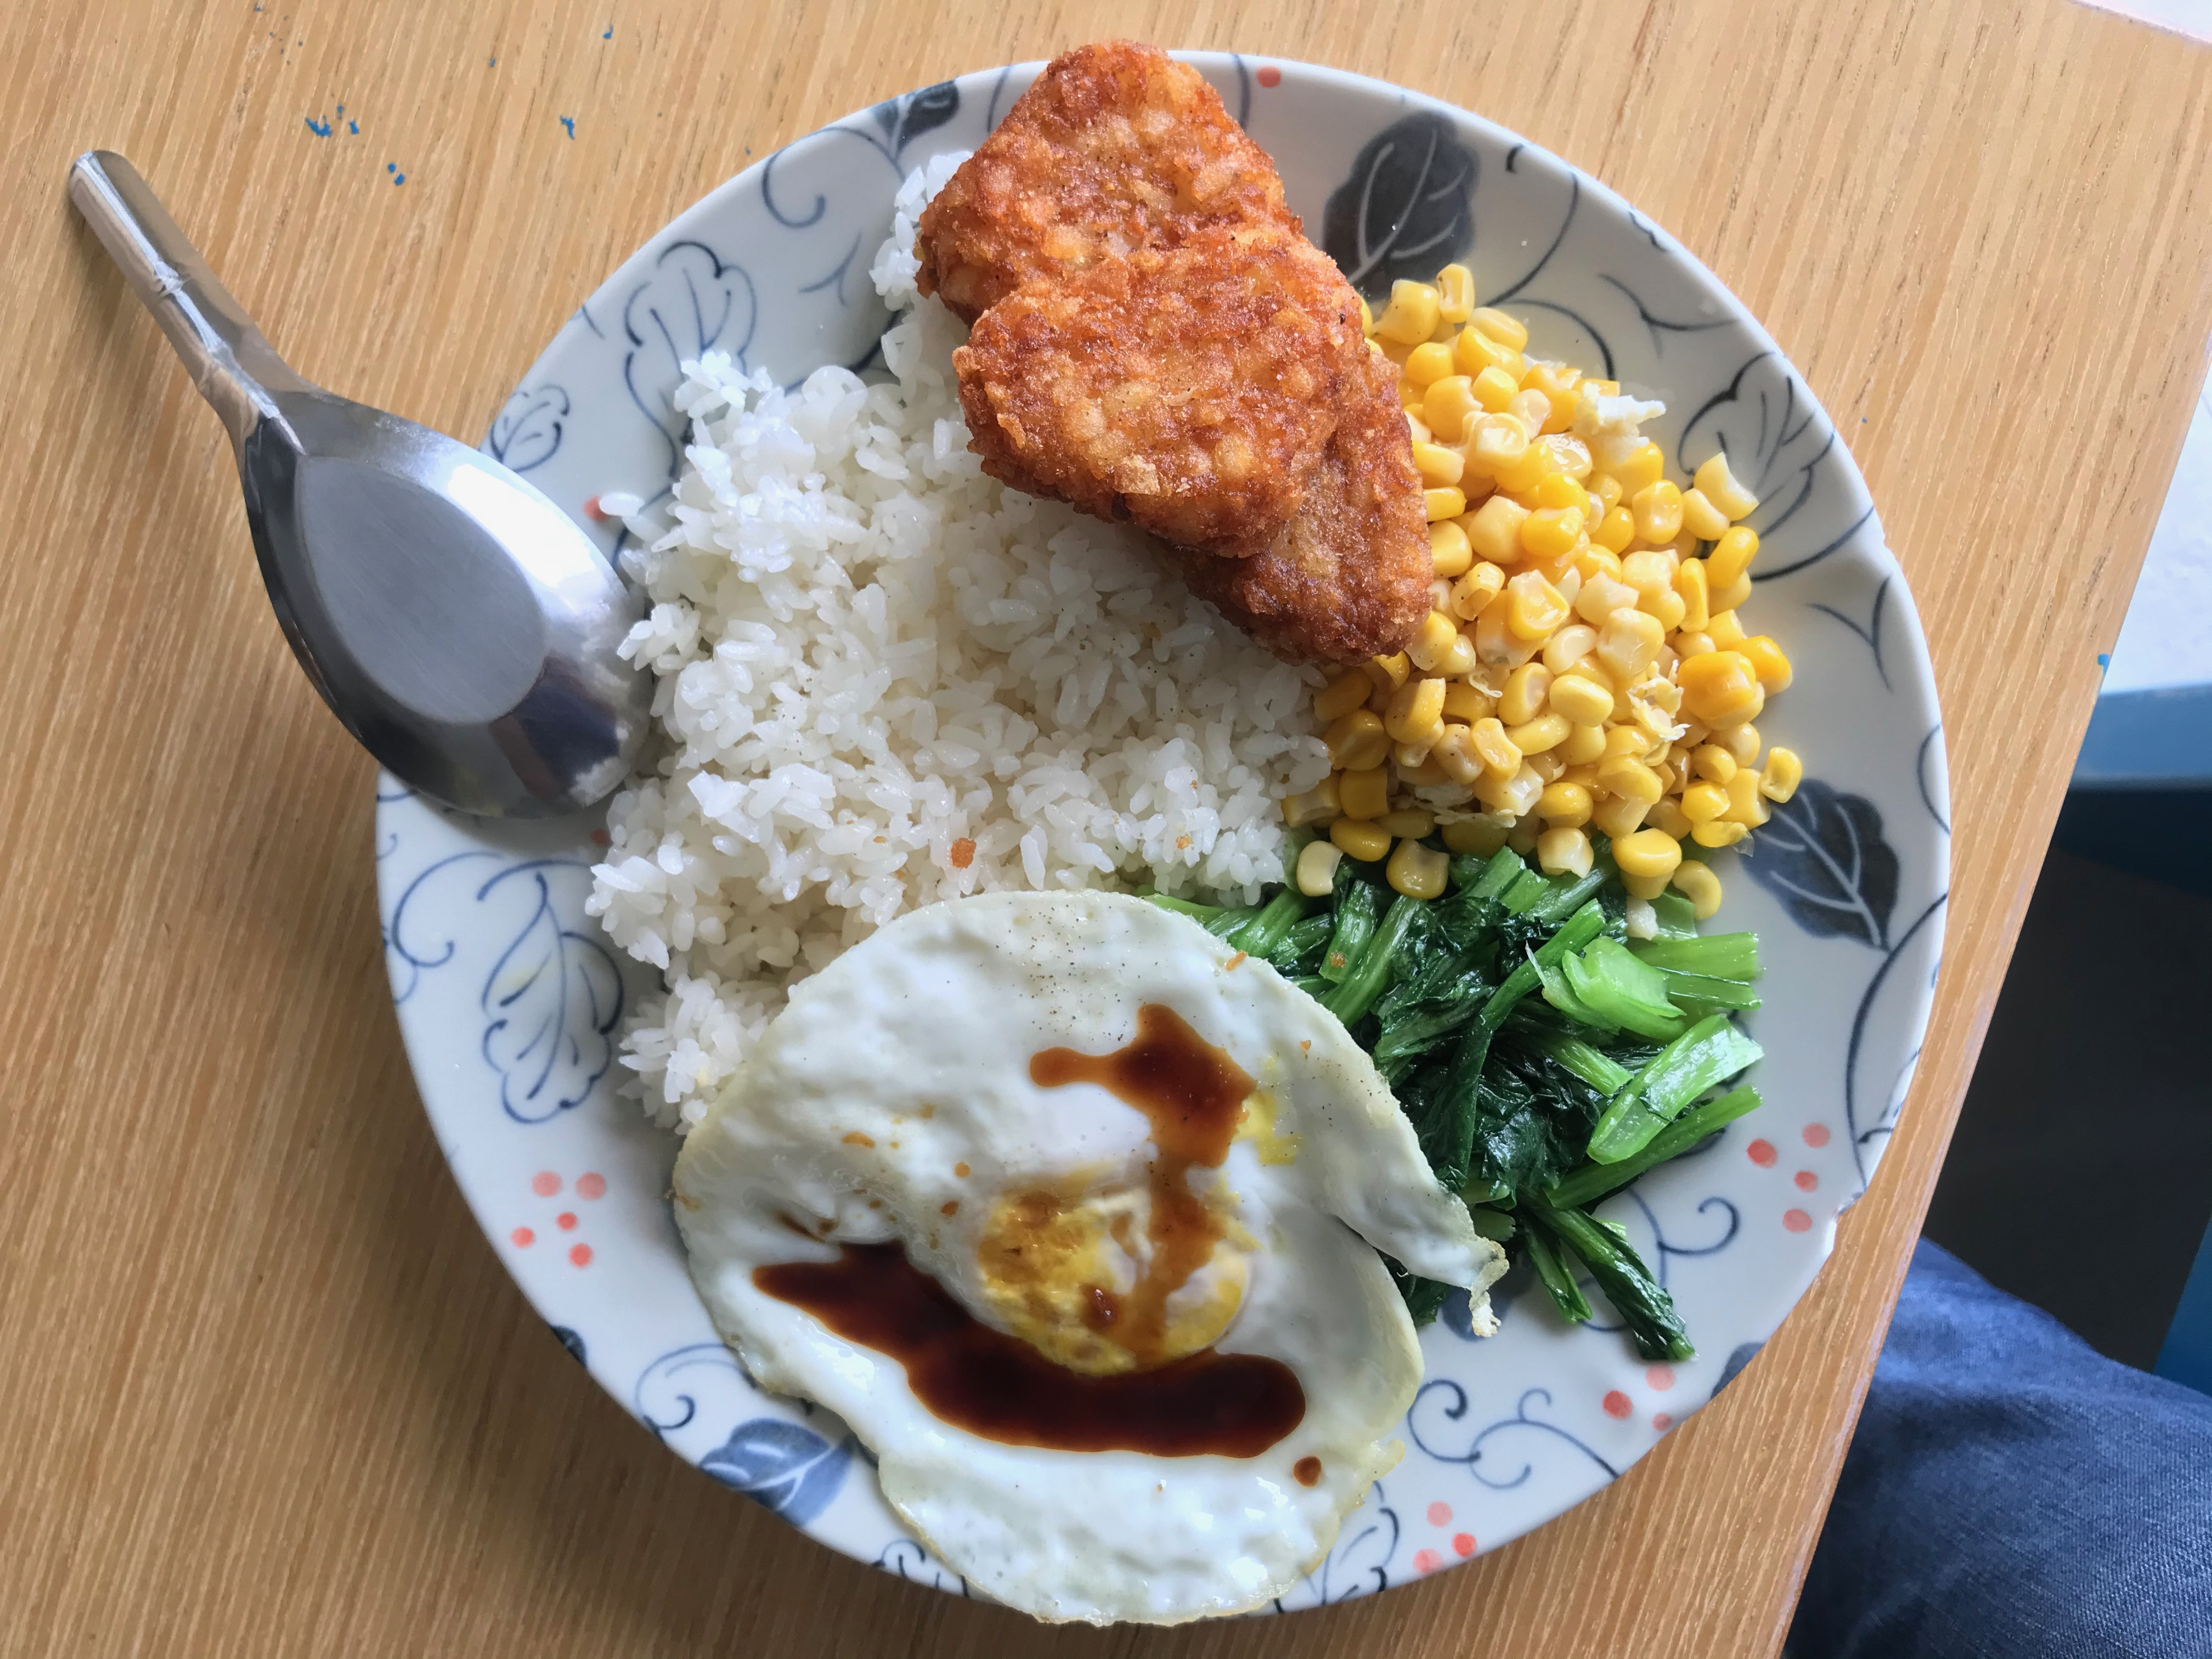fried_eggs: (669, 887, 1433, 1635)
rice: (636, 406, 1237, 887)
triangle_hash_brown: (913, 42, 1433, 664)
water_spinach: (1336, 863, 1756, 1363)
